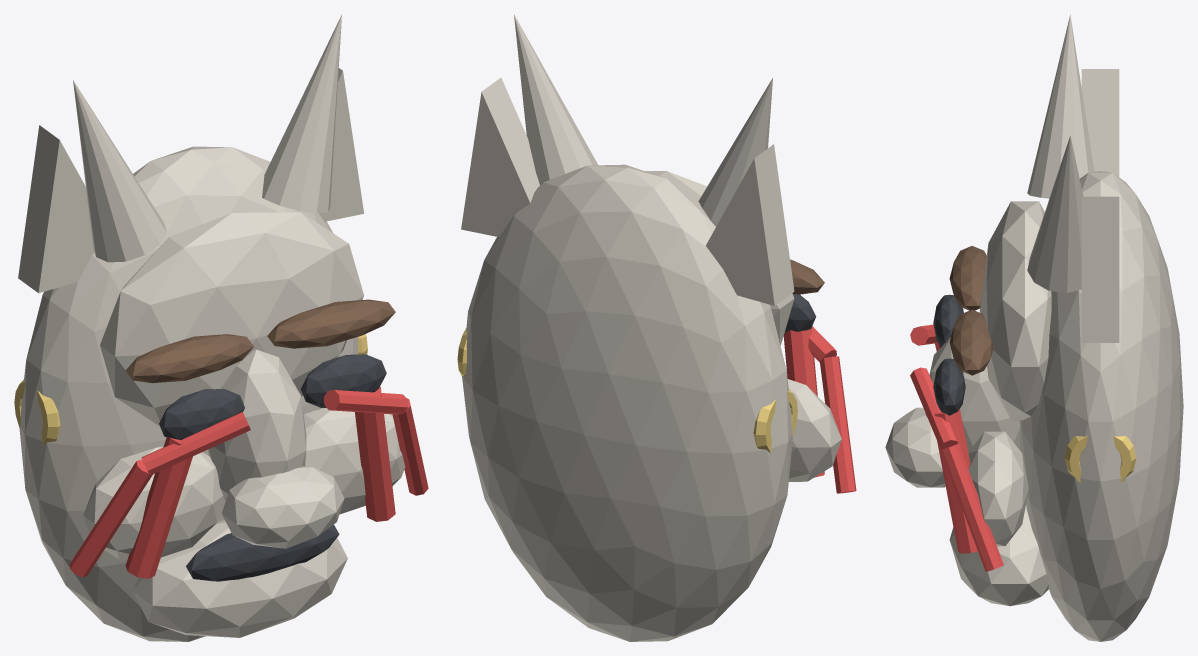
The model's file is buyo_folk_kitsune_mask.glb.
3 views of the same model, side by side, from view 1: azimuth 30°, elevation 25°; view 2: azimuth 150°, elevation 25°; view 3: azimuth 270°, elevation 25° (orthographic). The views are drawn at different scales.
Visible parts, largest first — view 1: Folk festival carved fox or oni mask substantial face blank, Folk festival carved fox or oni mask sculpted forehead, Folk festival carved fox or oni mask chin, Folk festival carved fox or oni mask nose bridge, Folk festival carved fox or oni mask fox pointy ear, Folk festival carved fox or oni mask curving oni horn.001, Folk festival carved fox or oni mask curving oni horn, Folk festival carved fox or oni mask nasal tip, Folk festival carved fox or oni mask carved cheek, Folk festival carved fox or oni mask carved cheek.001, Folk festival carved fox or oni mask dark mouth, Folk festival carved fox or oni mask raised eyebrow (+11 smaller); view 2: Folk festival carved fox or oni mask substantial face blank, Folk festival carved fox or oni mask fox pointy ear, Folk festival carved fox or oni mask fox pointy ear.001, Folk festival carved fox or oni mask curving oni horn.001, Folk festival carved fox or oni mask carved cheek, Folk festival carved fox or oni mask curving oni horn, Kitsune elongated painted cheek_01, Folk festival carved fox or oni mask angry cheek ink, Folk festival carved fox or oni mask sculpted forehead, Folk festival carved fox or oni mask ear hook, Folk festival carved fox or oni mask raised eyebrow, Folk festival carved fox or oni mask hollow eye (+1 smaller); view 3: Folk festival carved fox or oni mask substantial face blank, Folk festival carved fox or oni mask sculpted forehead, Folk festival carved fox or oni mask fox pointy ear.001, Folk festival carved fox or oni mask curving oni horn, Folk festival carved fox or oni mask curving oni horn.001, Folk festival carved fox or oni mask carved cheek.001, Folk festival carved fox or oni mask chin, Folk festival carved fox or oni mask fox pointy ear, Folk festival carved fox or oni mask nasal tip, Folk festival carved fox or oni mask nose bridge, Kitsune elongated painted cheek_01.001, Folk festival carved fox or oni mask raised eyebrow.001 (+7 smaller).
Part boxes in pixels (x1=…): Folk festival carved fox or oni mask substantial face blank: x1=19, y1=146, x2=358, y2=641; Folk festival carved fox or oni mask sculpted forehead: x1=100, y1=212, x2=363, y2=426; Folk festival carved fox or oni mask chin: x1=132, y1=520, x2=347, y2=637; Folk festival carved fox or oni mask nose bridge: x1=208, y1=349, x2=306, y2=502; Folk festival carved fox or oni mask fox pointy ear: x1=18, y1=125, x2=94, y2=293; Folk festival carved fox or oni mask curving oni horn.001: x1=262, y1=14, x2=341, y2=213; Folk festival carved fox or oni mask curving oni horn: x1=73, y1=80, x2=166, y2=262; Folk festival carved fox or oni mask nasal tip: x1=221, y1=466, x2=344, y2=548; Folk festival carved fox or oni mask carved cheek: x1=83, y1=446, x2=224, y2=559; Folk festival carved fox or oni mask carved cheek.001: x1=303, y1=408, x2=405, y2=514; Folk festival carved fox or oni mask dark mouth: x1=186, y1=524, x2=339, y2=581; Folk festival carved fox or oni mask raised eyebrow: x1=125, y1=334, x2=253, y2=383; Folk festival carved fox or oni mask substantial face blank: x1=462, y1=164, x2=792, y2=641; Folk festival carved fox or oni mask fox pointy ear: x1=706, y1=144, x2=794, y2=305; Folk festival carved fox or oni mask fox pointy ear.001: x1=461, y1=77, x2=539, y2=236; Folk festival carved fox or oni mask curving oni horn.001: x1=514, y1=14, x2=597, y2=185; Folk festival carved fox or oni mask carved cheek: x1=787, y1=379, x2=841, y2=481; Folk festival carved fox or oni mask curving oni horn: x1=698, y1=78, x2=772, y2=226; Kitsune elongated painted cheek_01: x1=819, y1=356, x2=856, y2=493; Folk festival carved fox or oni mask angry cheek ink: x1=783, y1=329, x2=824, y2=477; Folk festival carved fox or oni mask sculpted forehead: x1=645, y1=171, x2=794, y2=345; Folk festival carved fox or oni mask ear hook: x1=753, y1=389, x2=797, y2=452; Folk festival carved fox or oni mask raised eyebrow: x1=790, y1=259, x2=824, y2=294; Folk festival carved fox or oni mask hollow eye: x1=784, y1=294, x2=816, y2=332; Folk festival carved fox or oni mask substantial face blank: x1=1019, y1=171, x2=1183, y2=641; Folk festival carved fox or oni mask sculpted forehead: x1=979, y1=201, x2=1051, y2=420; Folk festival carved fox or oni mask fox pointy ear.001: x1=1081, y1=196, x2=1119, y2=342; Folk festival carved fox or oni mask curving oni horn: x1=1027, y1=15, x2=1094, y2=198; Folk festival carved fox or oni mask curving oni horn.001: x1=1027, y1=136, x2=1083, y2=292; Folk festival carved fox or oni mask carved cheek.001: x1=968, y1=431, x2=1028, y2=546; Folk festival carved fox or oni mask chin: x1=949, y1=505, x2=1048, y2=606; Folk festival carved fox or oni mask fox pointy ear: x1=1081, y1=69, x2=1119, y2=176; Folk festival carved fox or oni mask nasal tip: x1=885, y1=407, x2=945, y2=487; Folk festival carved fox or oni mask nose bridge: x1=925, y1=337, x2=1020, y2=451; Kitsune elongated painted cheek_01.001: x1=940, y1=443, x2=1003, y2=571; Folk festival carved fox or oni mask raised eyebrow.001: x1=949, y1=309, x2=992, y2=375.
Bounding box in the file's own units: 1.19 × 1.92 × 0.9282.
